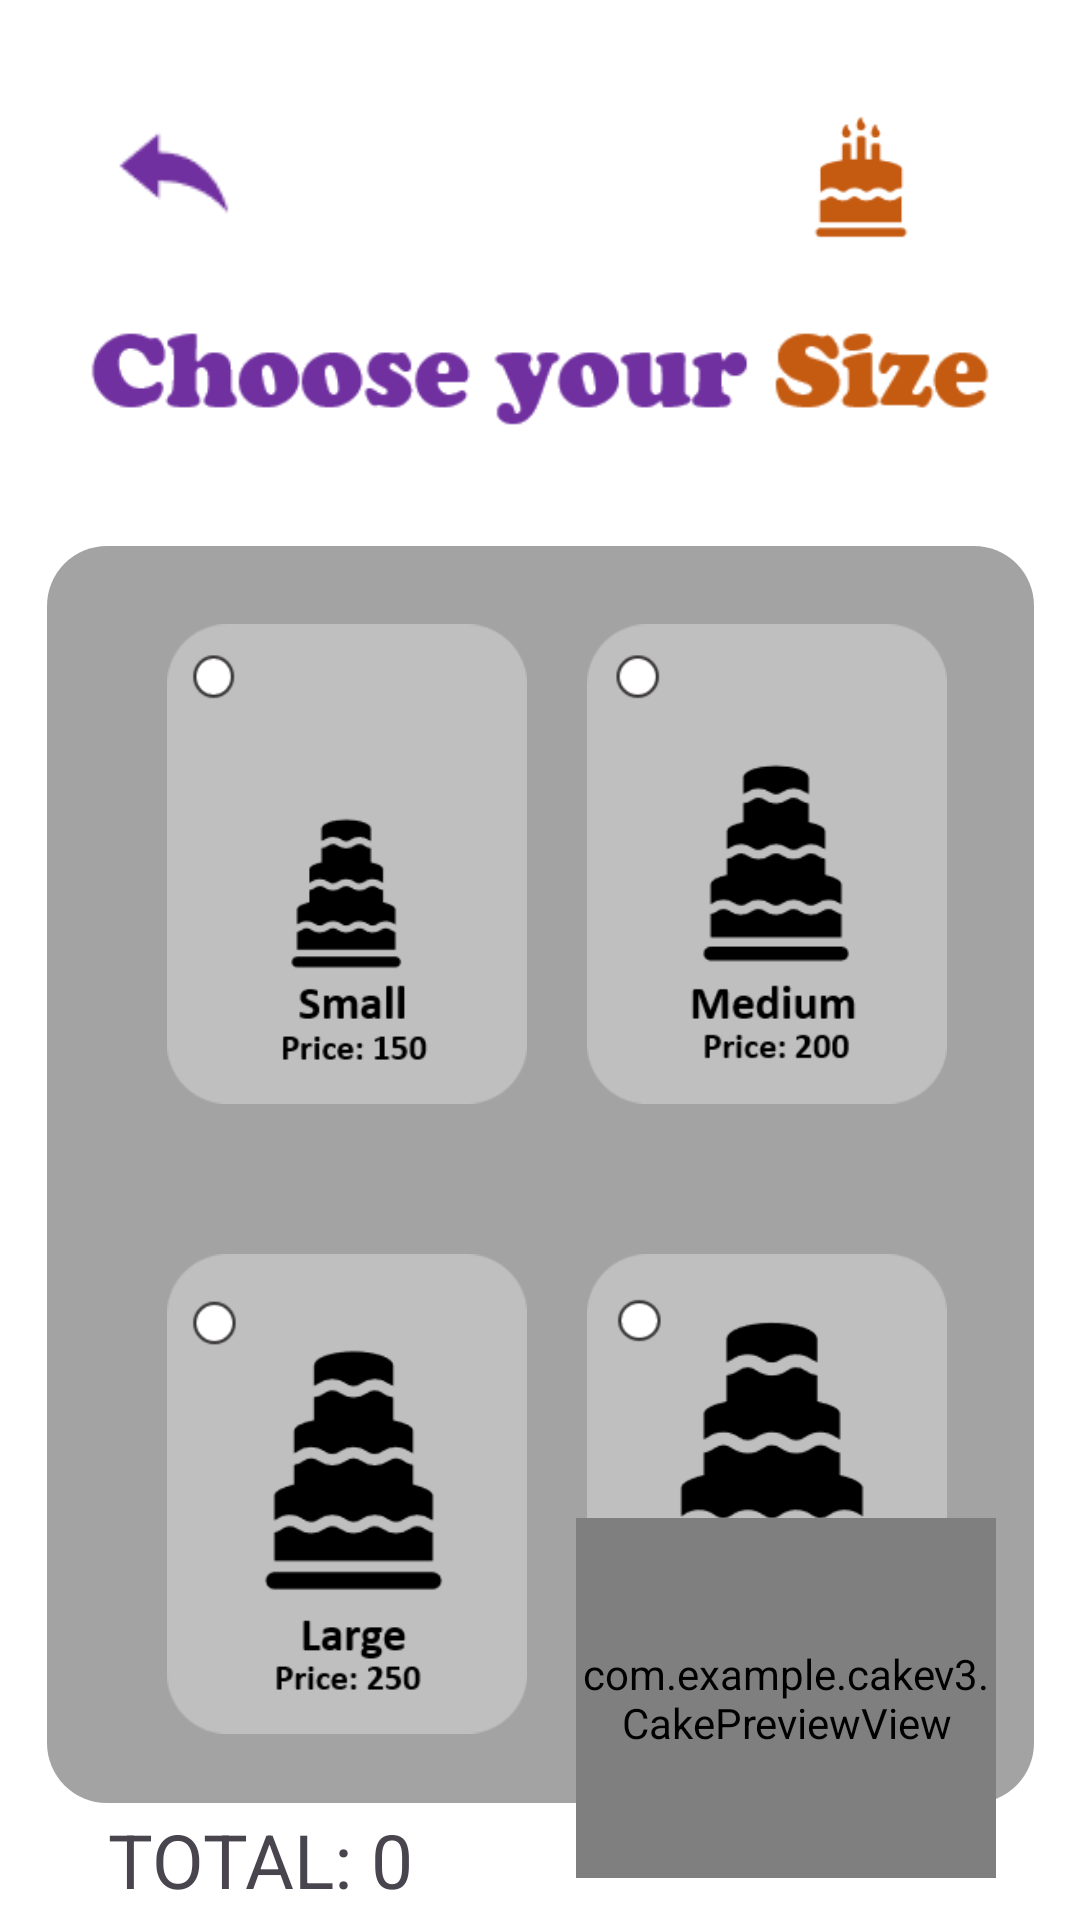

Where icons sit on this 1080px x 1920px app screen, as (x1, y1, x2, y2):
back: (119, 134, 229, 213)
